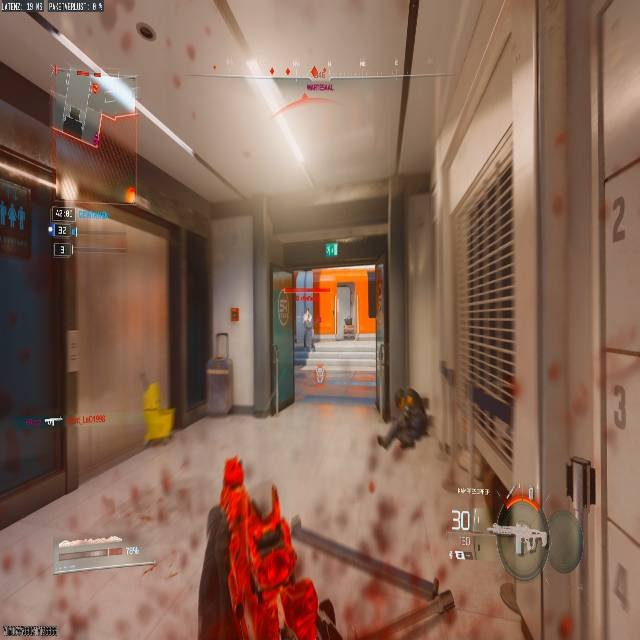player: (376, 388, 430, 457), (301, 310, 314, 351)
